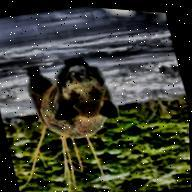boar: (13, 43, 126, 164)
